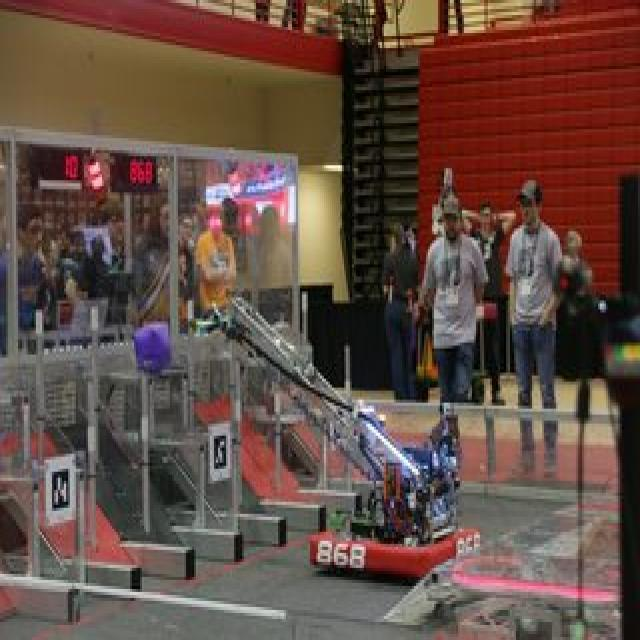robot: (188, 288, 503, 602)
